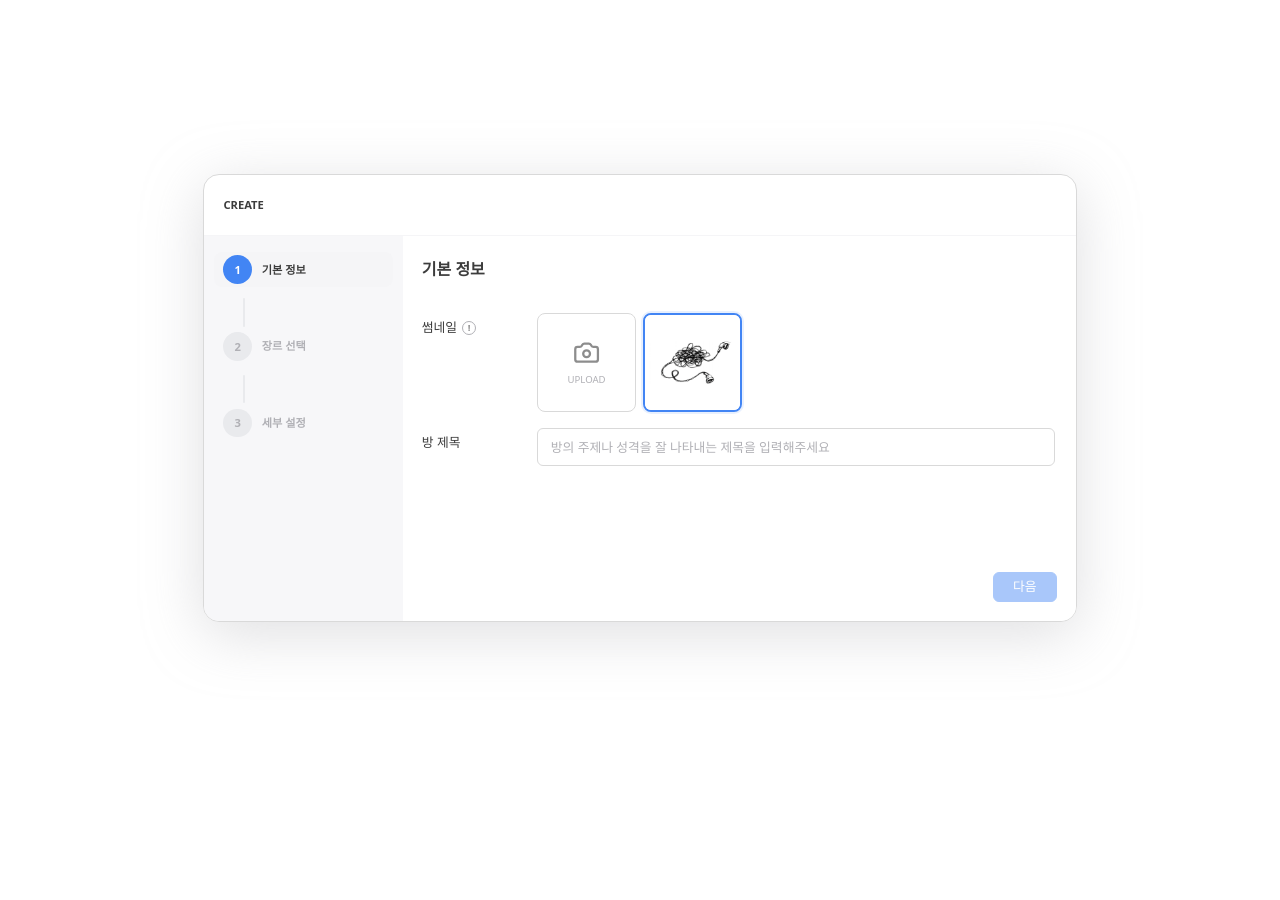
it: RoomFormModal room form flows › 태그를 고르기 전에는 다음을 비활성화하고 FREE를 고르면 진행한다
In the field labelled "방 제목": (796, 447) [537,428,1055,466], type "태그 필수 방"
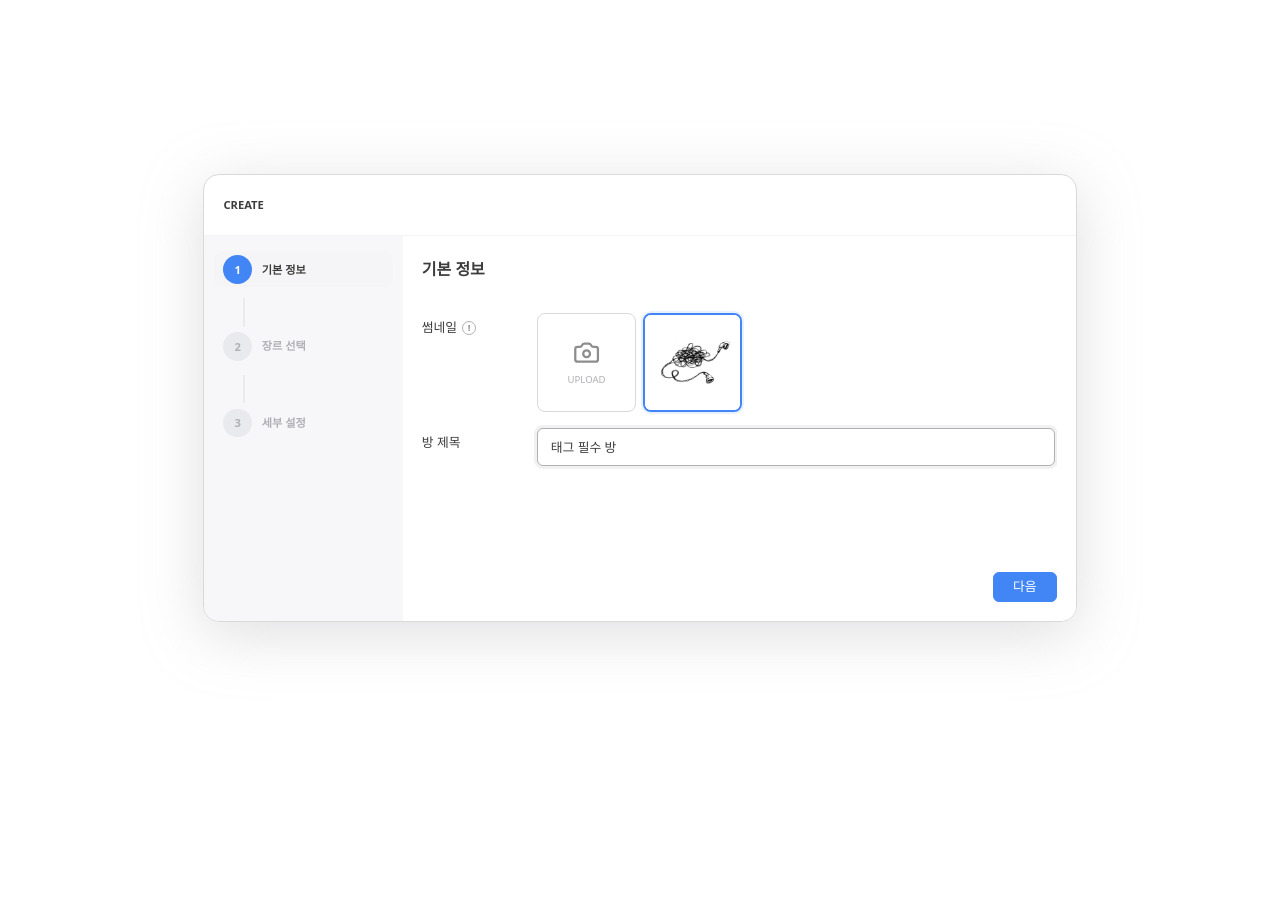
Click the button "다음": (1025, 587) [993,572,1057,602]
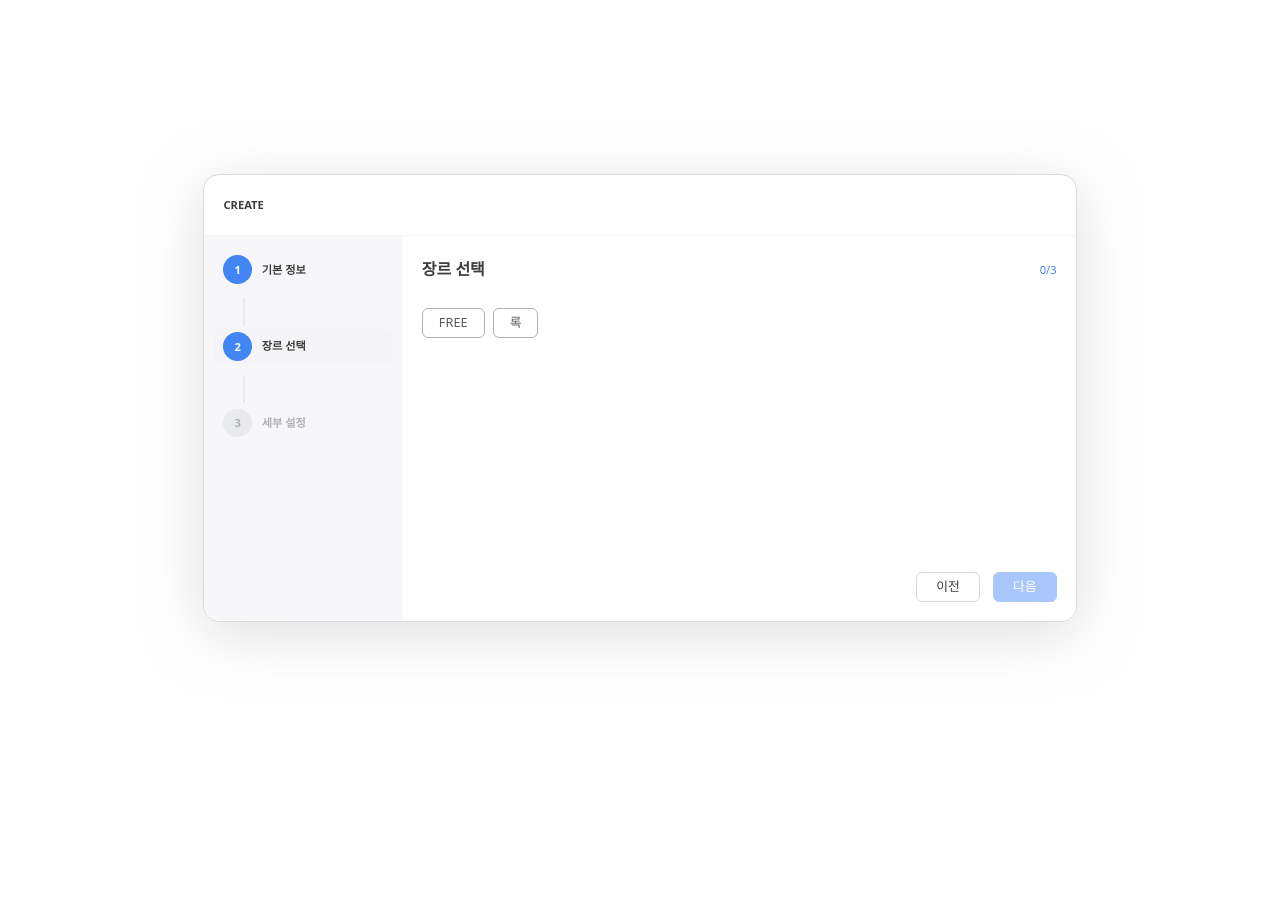
Expected: the button "다음" is disabled, [993,572,1057,602]
Expected: the heading "장르 선택" is shown, [422,258,485,281]
Click the button "FREE": (453, 323) [422,308,485,338]
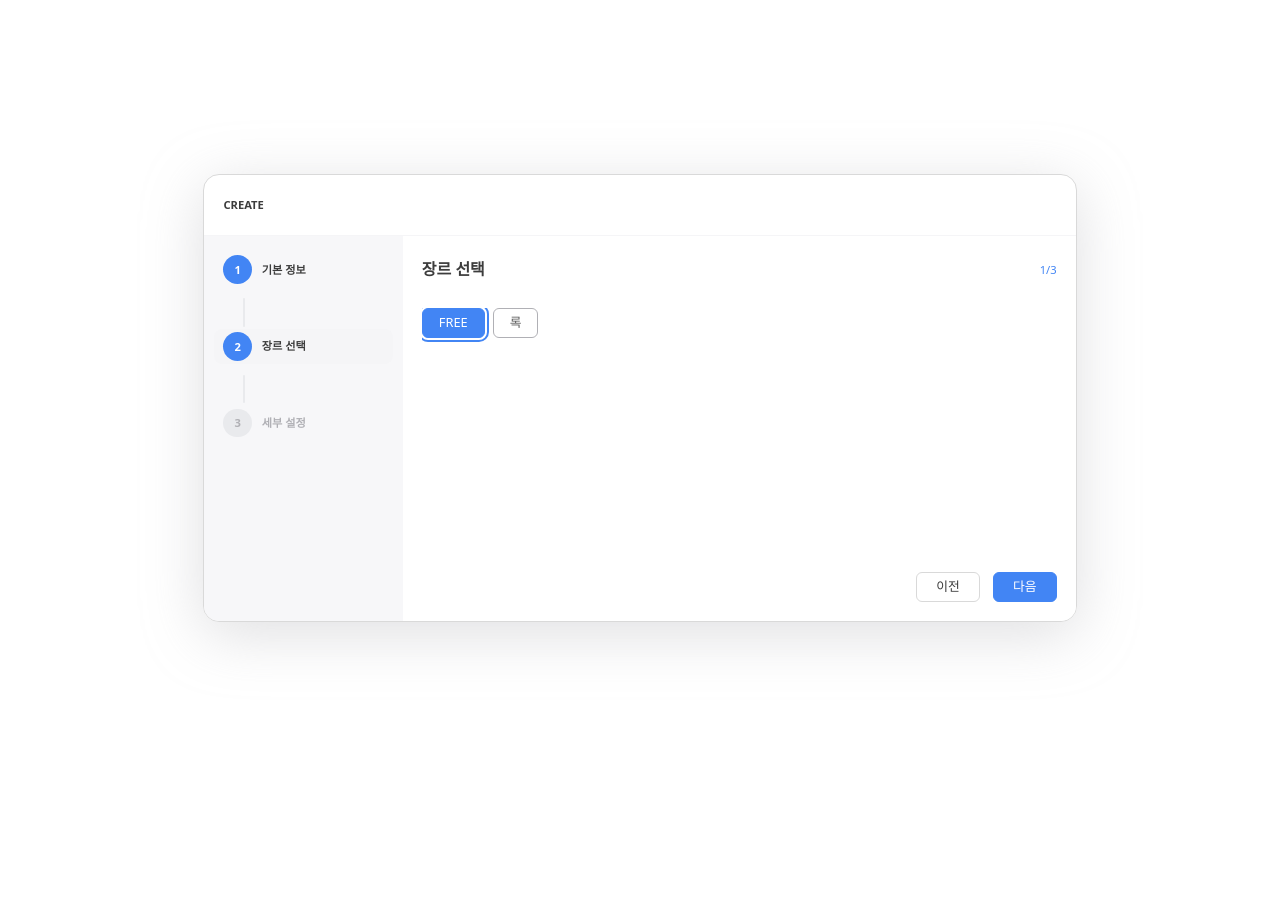
Expected: the button "다음" is enabled, [993,572,1057,602]
Click the button "FREE": (453, 323) [422,308,485,338]
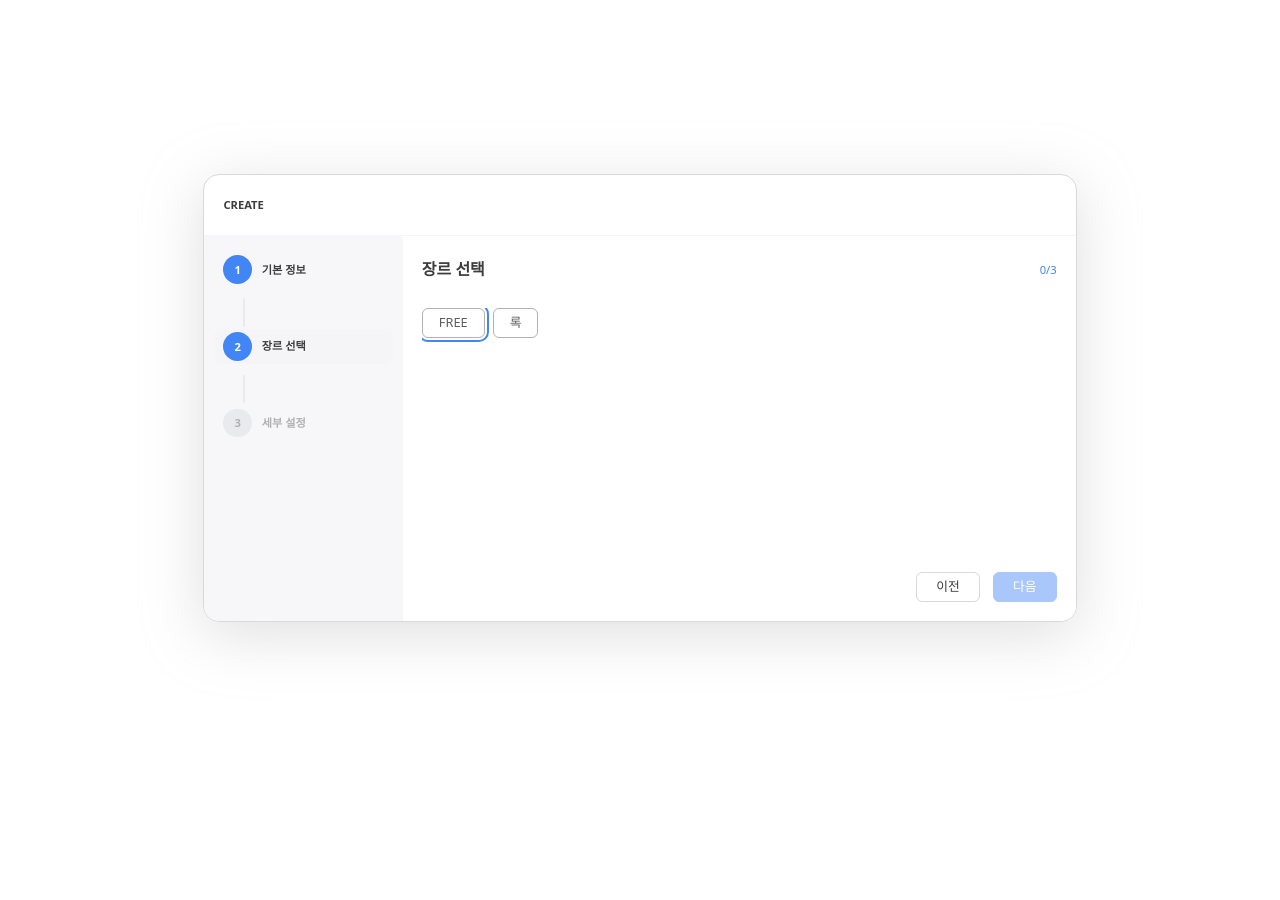
Expected: the button "다음" is disabled, [993,572,1057,602]
Click the button "FREE": (453, 323) [422,308,485,338]
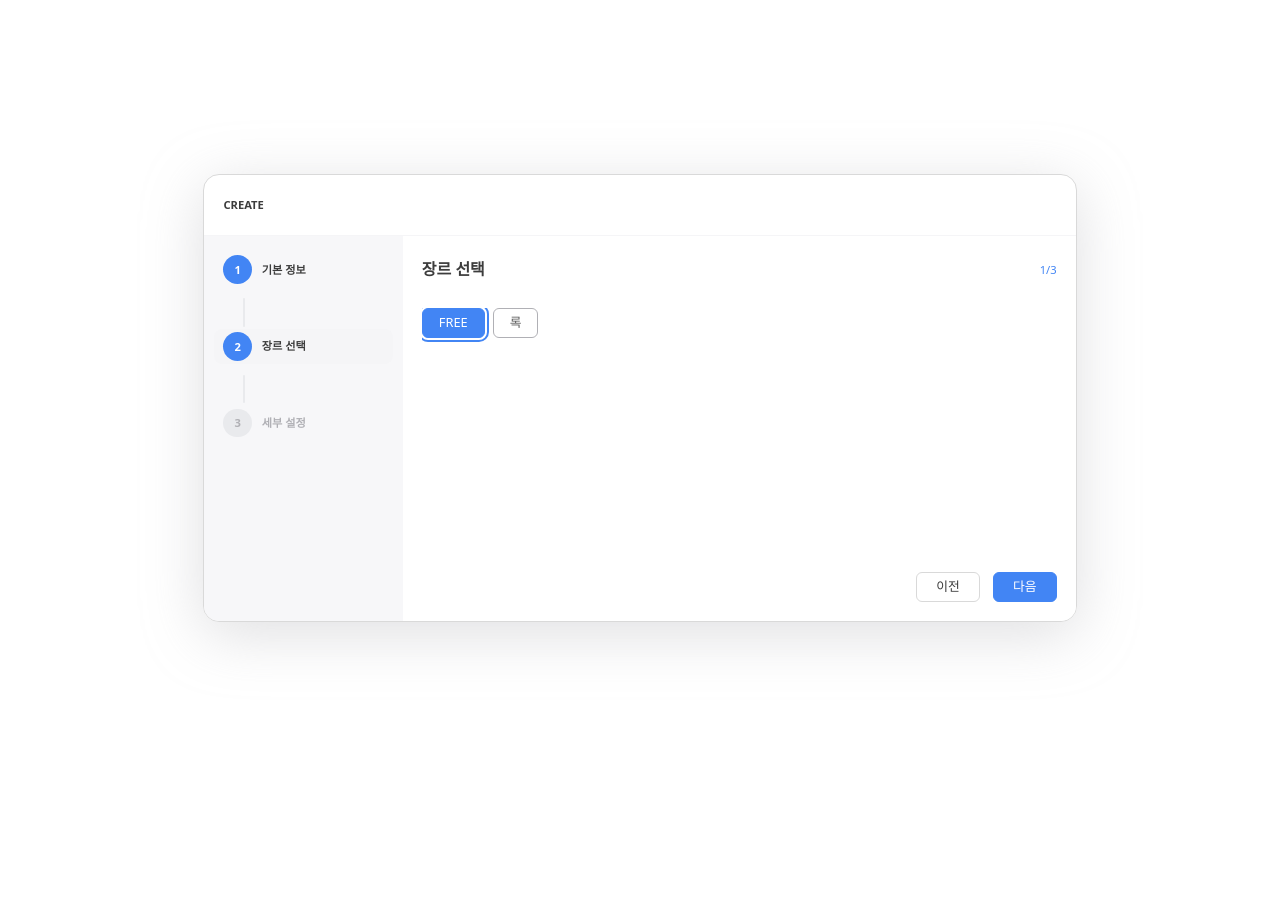
Click the button "다음": (1025, 587) [993,572,1057,602]
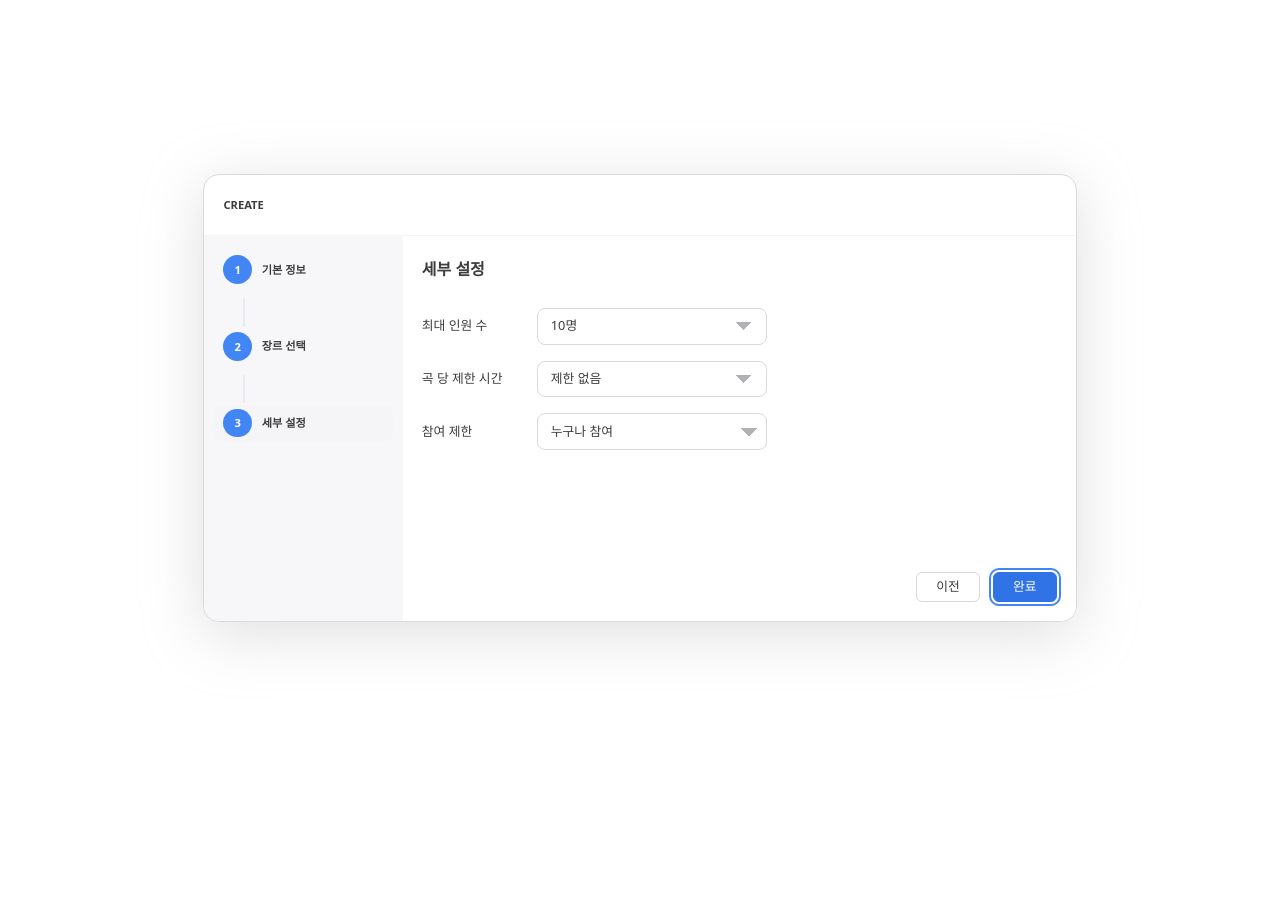
Expected: the dropdown labelled "최대 인원 수" is shown, [537,308,767,345]
